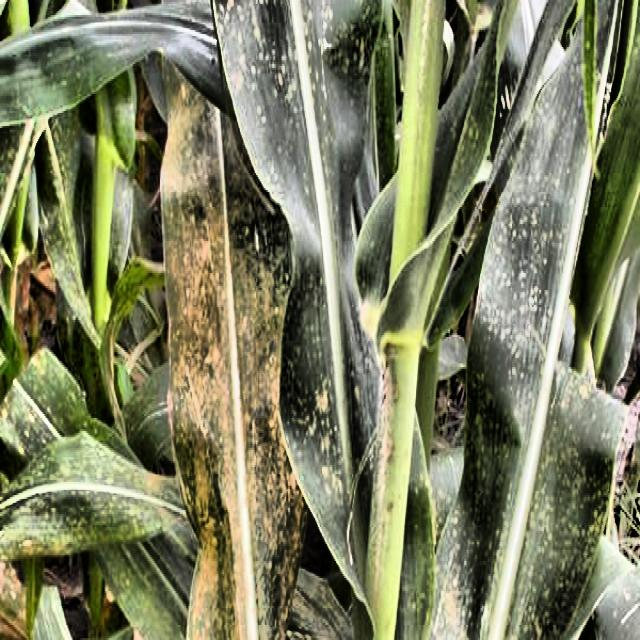common_rust: (160, 63, 305, 636)
